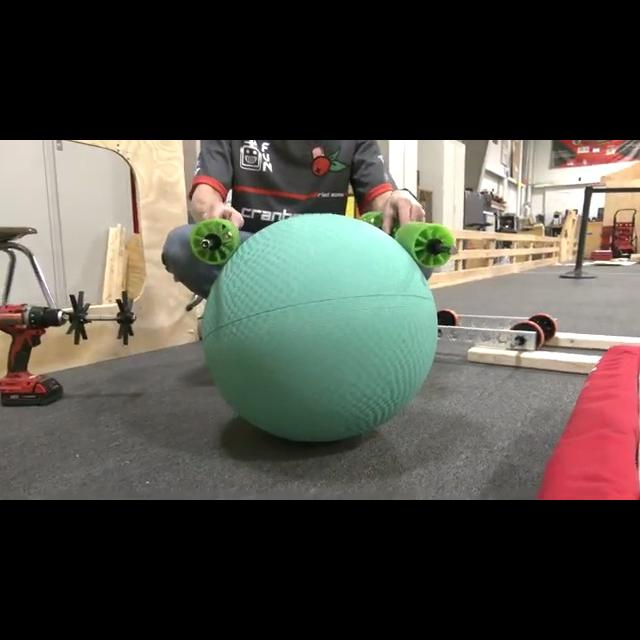ALGAE: (198, 211, 438, 443)
